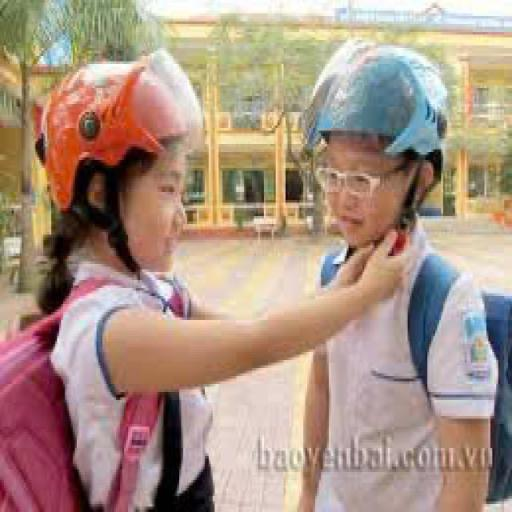with helmet: (36, 58, 200, 207), (297, 31, 451, 167)
